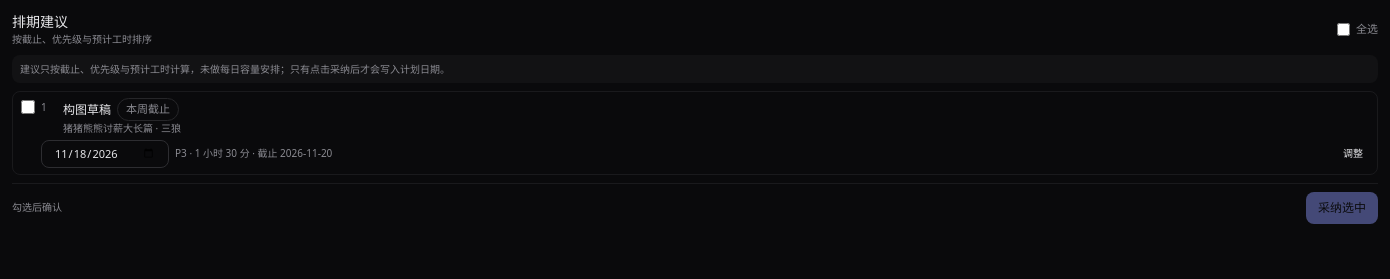
it: 排期建议面板 › 勾选并修改日期后提交 taskId、日期与快照
This screenshot has width=1390, height=279.
Click the checkbox named "选择建议 构图草稿" at [28, 107], box [21,100,35,114]
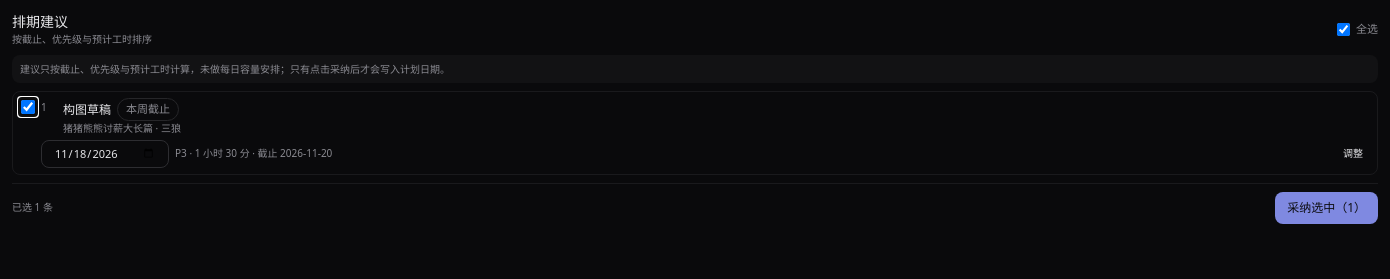
Type "2026-11-19" into the date field named "建议日期 构图草稿" at [105, 154], box [41,140,169,168]
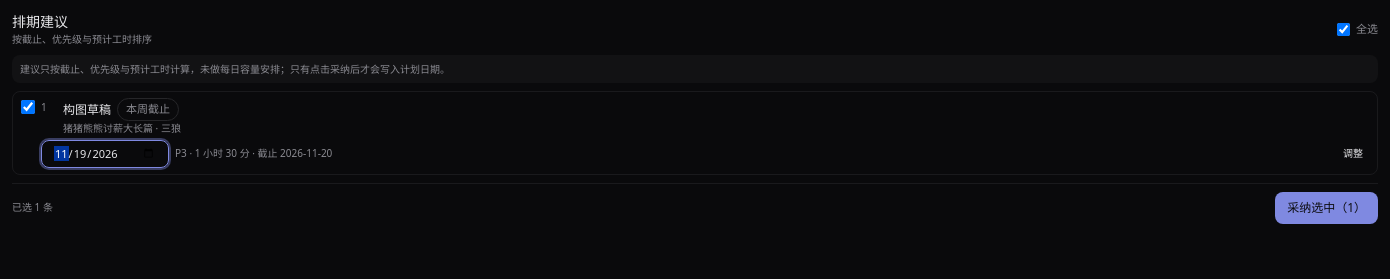
Click the button "采纳选中（1）" at [1327, 208], box [1275,192,1378,224]
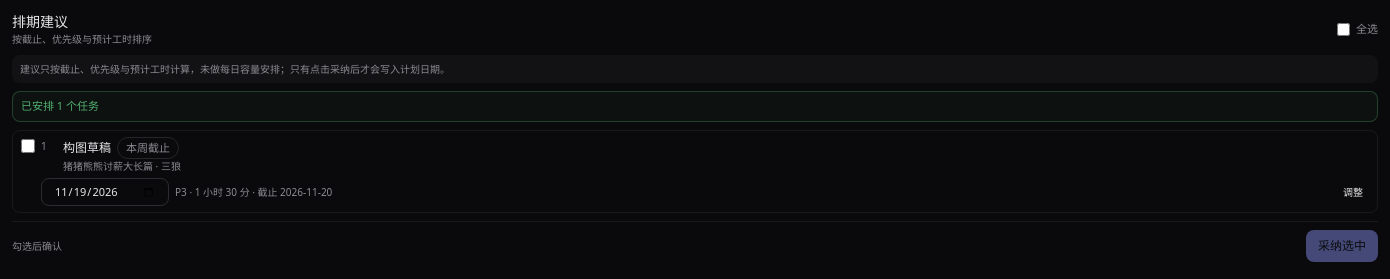
Result: the message reads "已安排 1 个任务" at [21,98,99,113]
